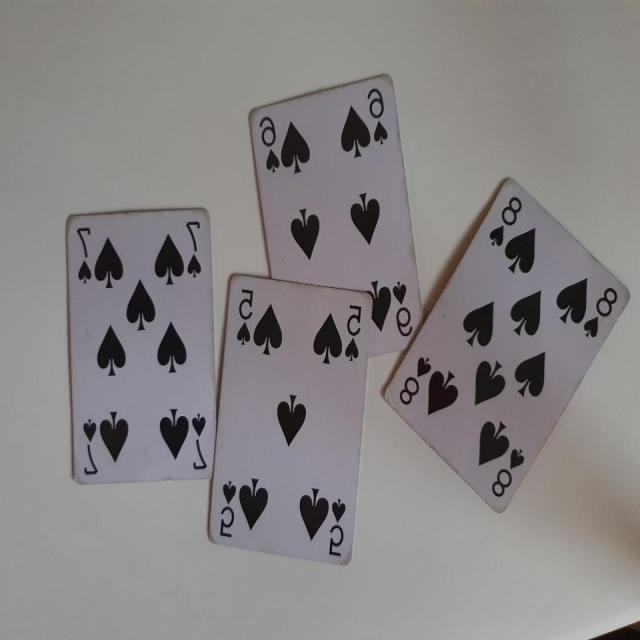5 of spades: (205, 265, 376, 575)
6 of spades: (254, 59, 434, 378)
7 of spades: (61, 202, 228, 497)
8 of spades: (380, 171, 632, 529)
